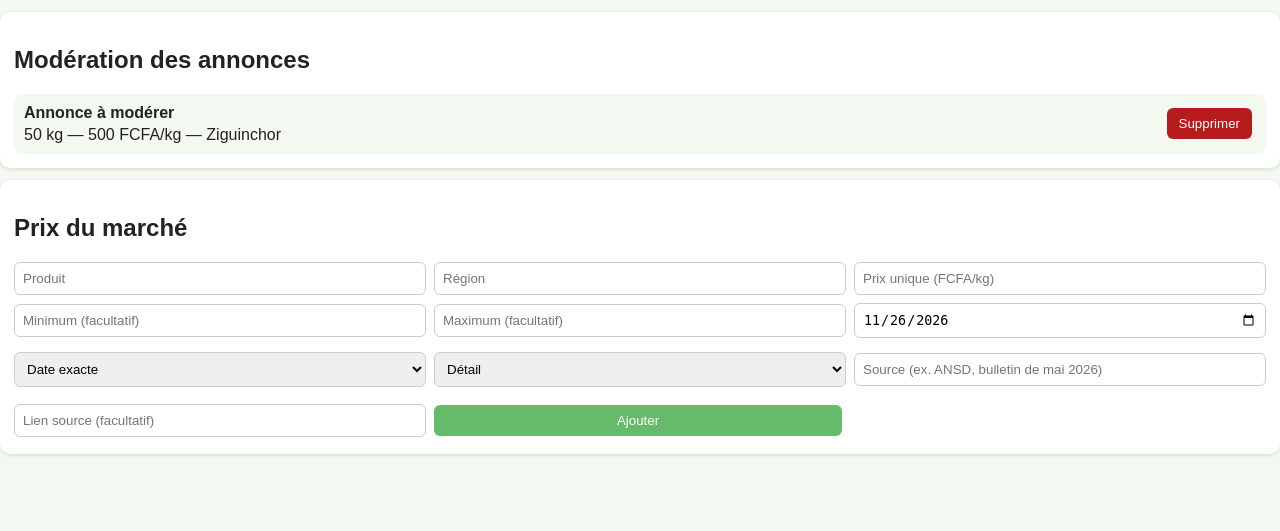
it: Admin › refuse un lien de source qui n'utilise pas HTTP ou HTTPS
Expected: the text "Annonce à modérer" is shown, 24,104 -> 174,121
Type "Mil" into the field with placeholder "Produit" at coordinates (220, 278), box 14,262 -> 426,295
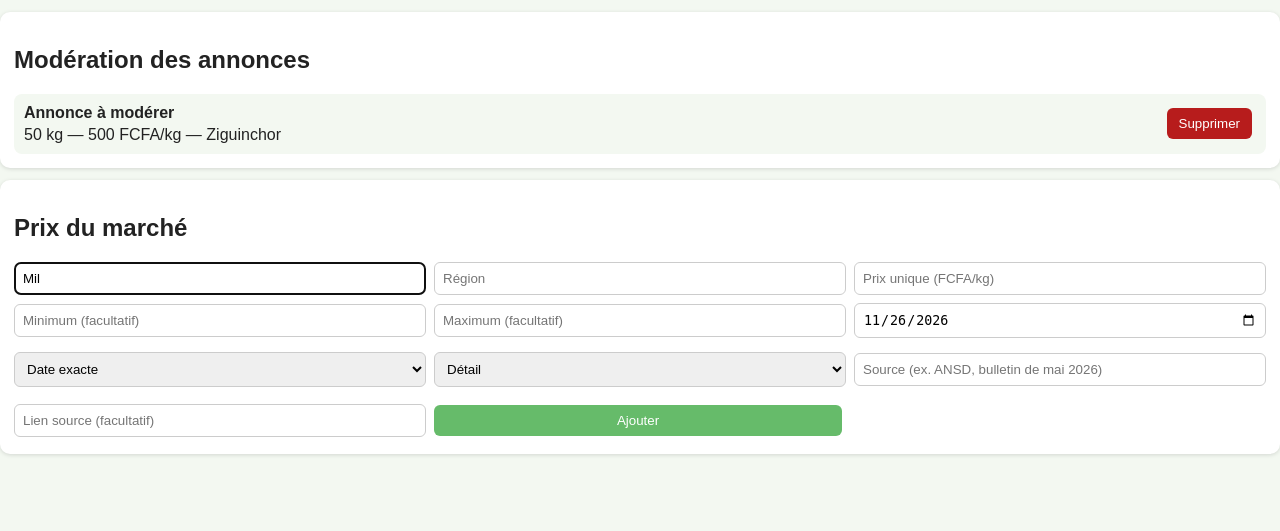
Type "Thiès" into the field with placeholder "Région" at coordinates (640, 278), box 434,262 -> 846,295
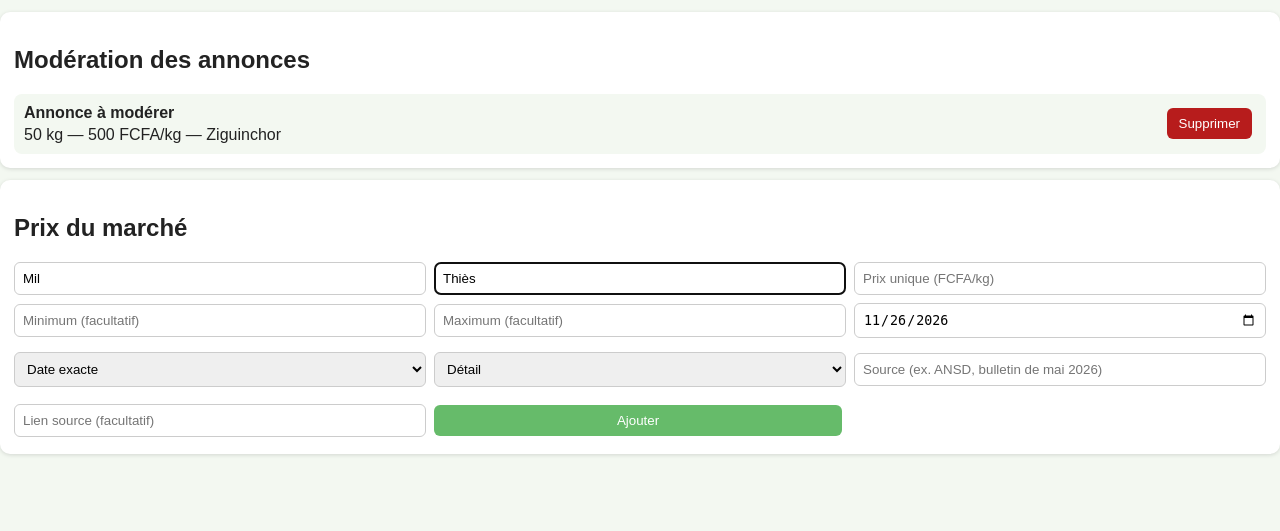
Type "250" into the number field with placeholder "Prix unique (FCFA/kg)" at coordinates (1060, 278), box 854,262 -> 1266,295
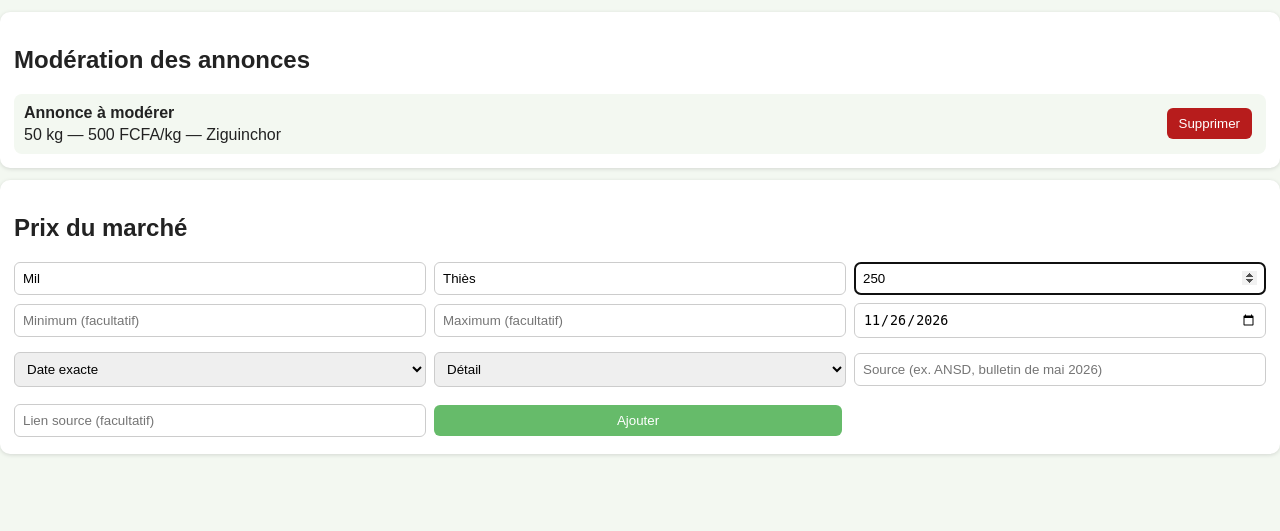
Type "Enquête locale" into the field with placeholder "Source (ex. ANSD, bulletin de mai 2026)" at coordinates (1060, 370), box 854,353 -> 1266,386
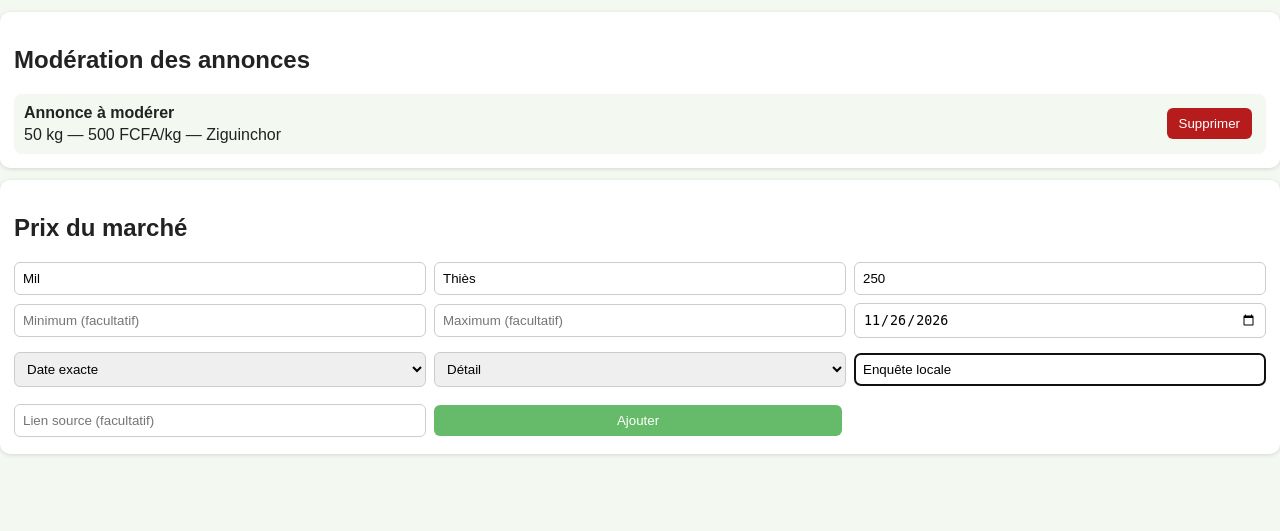
Type "source-invalide" into the field with placeholder "Lien source (facultatif)" at coordinates (220, 420), box 14,404 -> 426,437
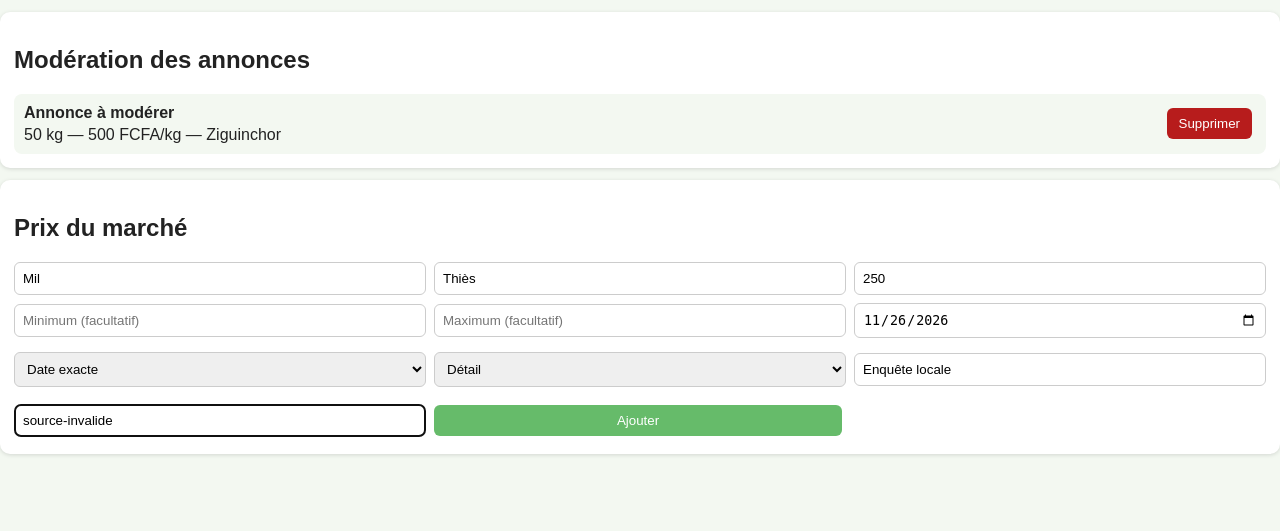
Click the button "Ajouter" at coordinates (638, 420), box 434,405 -> 842,436
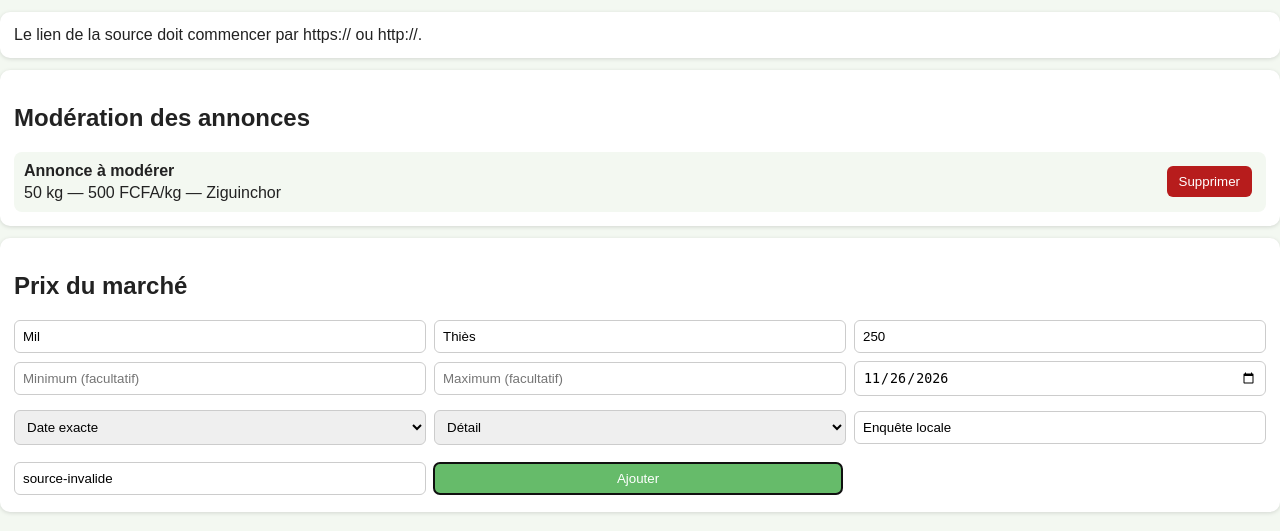
Result: the message reads "Le lien de la source doit commencer par https:// ou http://." at 14,26 -> 422,43
